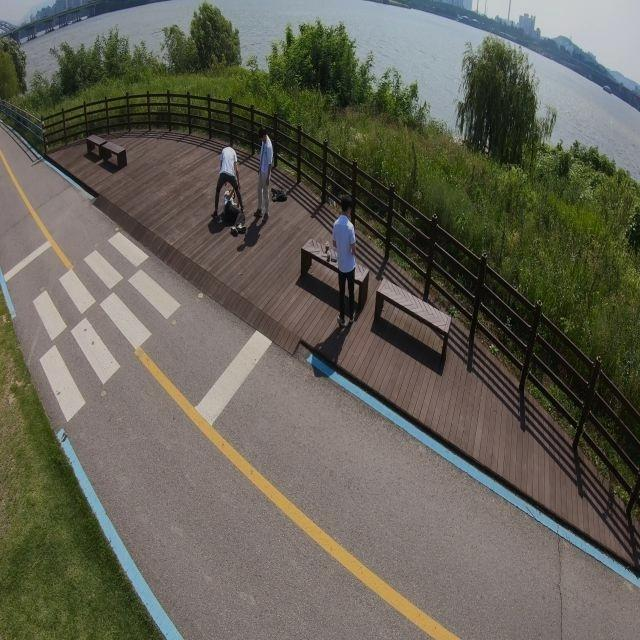fight: (211, 140, 246, 233)
non-fight: (330, 204, 359, 329), (253, 128, 274, 223)
